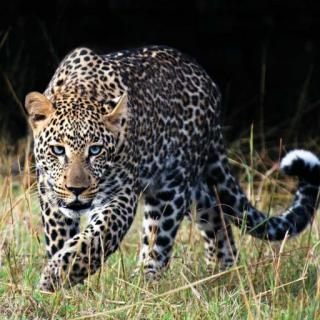Leopard: (23, 36, 320, 301)
